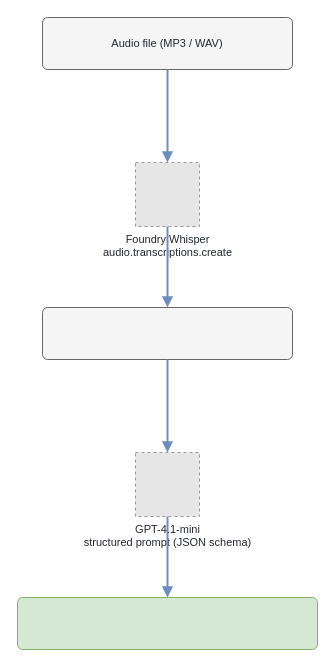
Image size: 335x667. Some labels were removed from this diagram. Grey dashed boxes stand in for pictures. The centre of each missing label's shape, as x and y in pixels:
"Raw transcript (text)" belongs at point 167,333.
"Structured JSON {summary, action_items, decisions}" belongs at point 167,623.
